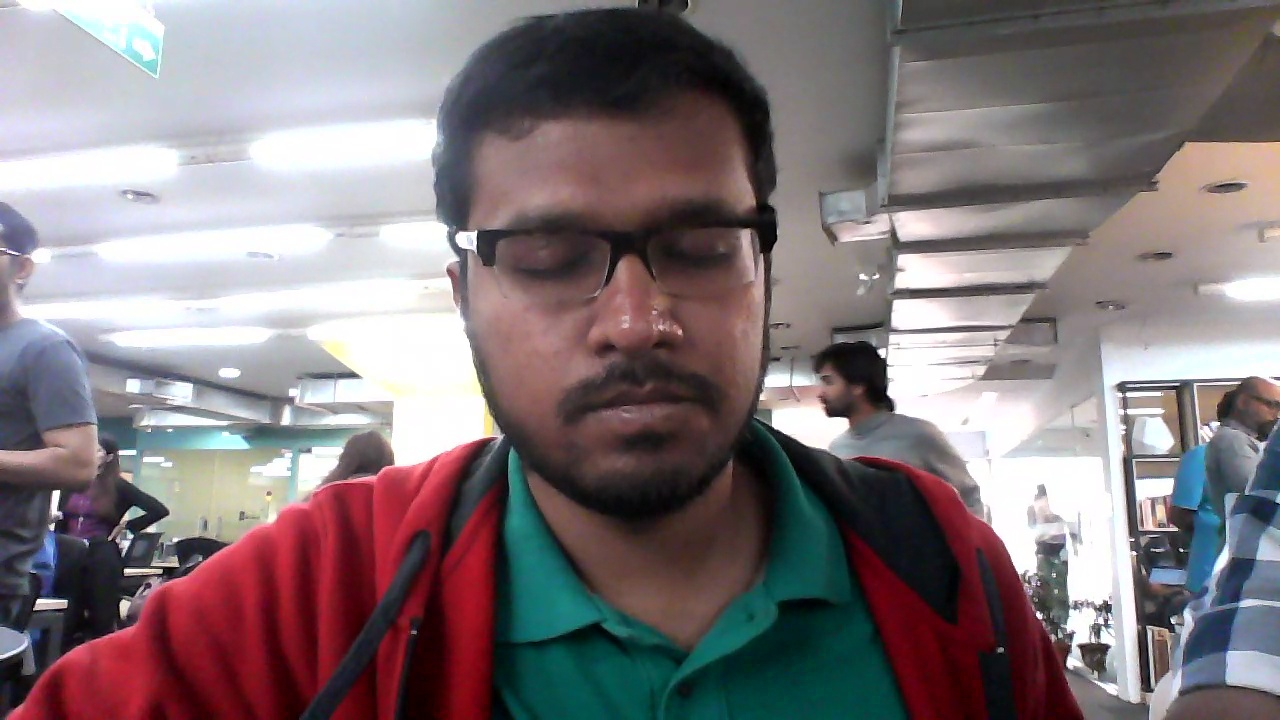closed: (430, 9, 783, 541)
